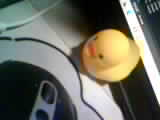duck: (83, 23, 138, 83)
